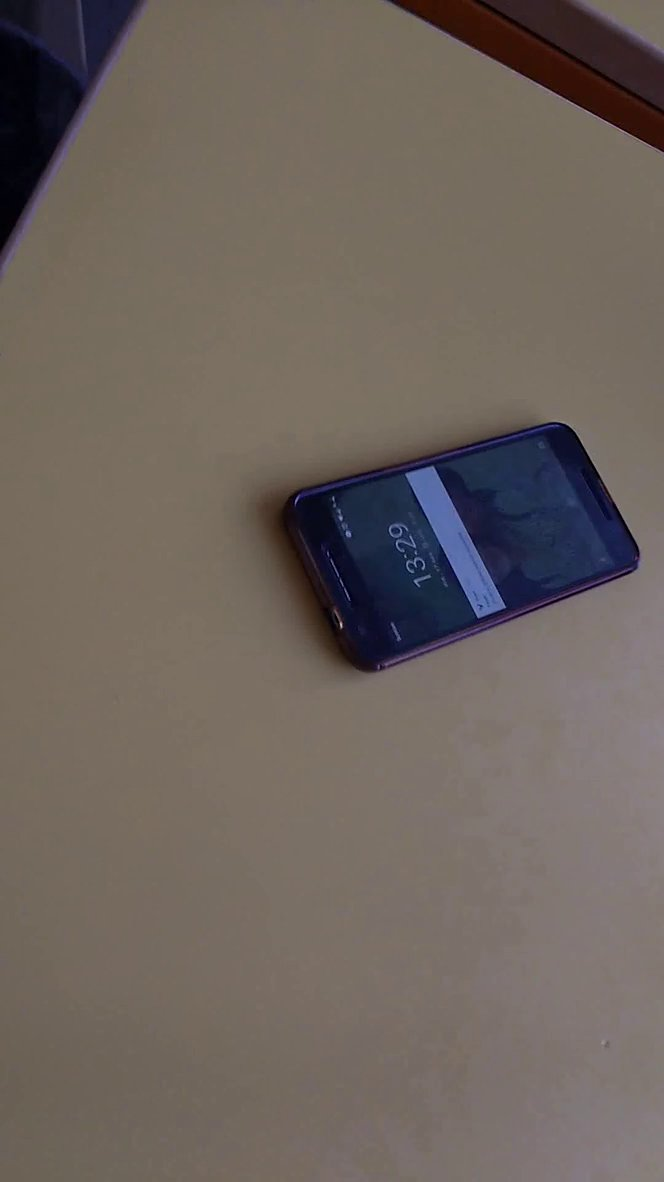phone: (268, 405, 653, 692)
